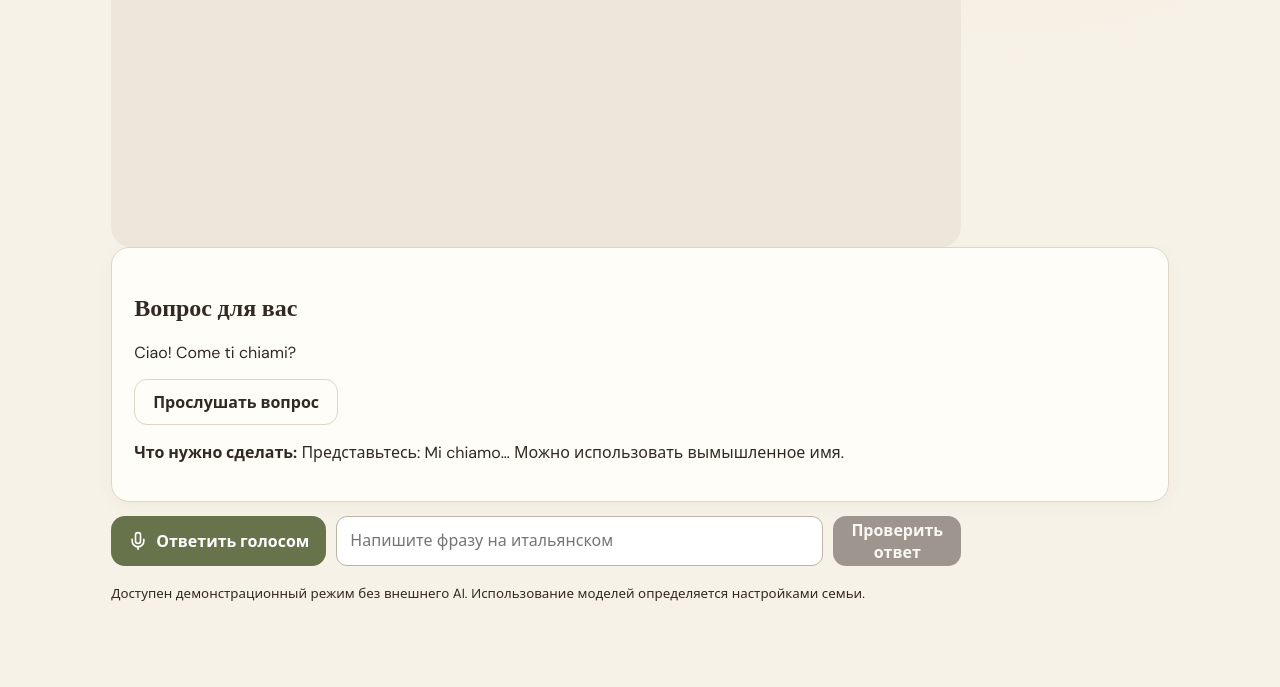
Test case: internet practice routes › opens the Italian tutor composer
The width and height of the screenshot is (1280, 687).
(page scrolled)
Check: the button "Ответить голосом" is enabled, box [111,516,326,566]
Check: the button "Проверить ответ" is disabled, box [833,516,961,566]
In the field named "Ваш ответ": coordinates (580, 541) [336,516,823,566], type "Mi chiamo Luca"
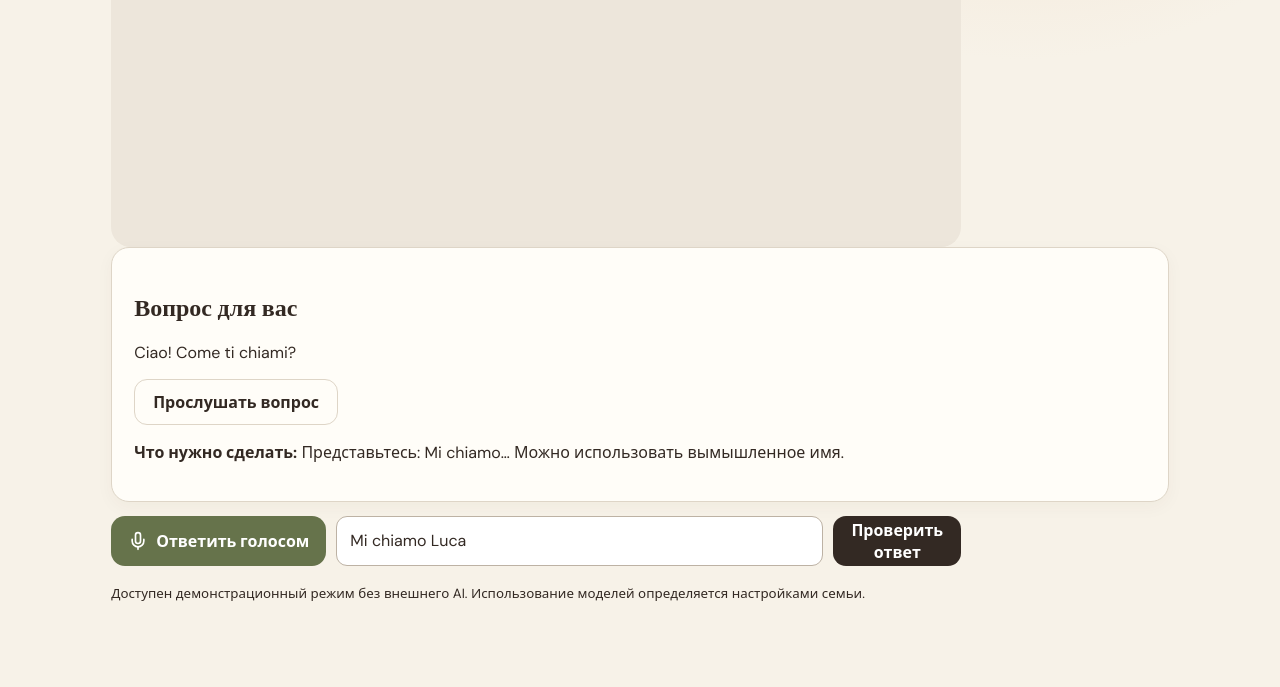
Click the button "Проверить ответ": coordinates (897, 541) [833,516,961,566]
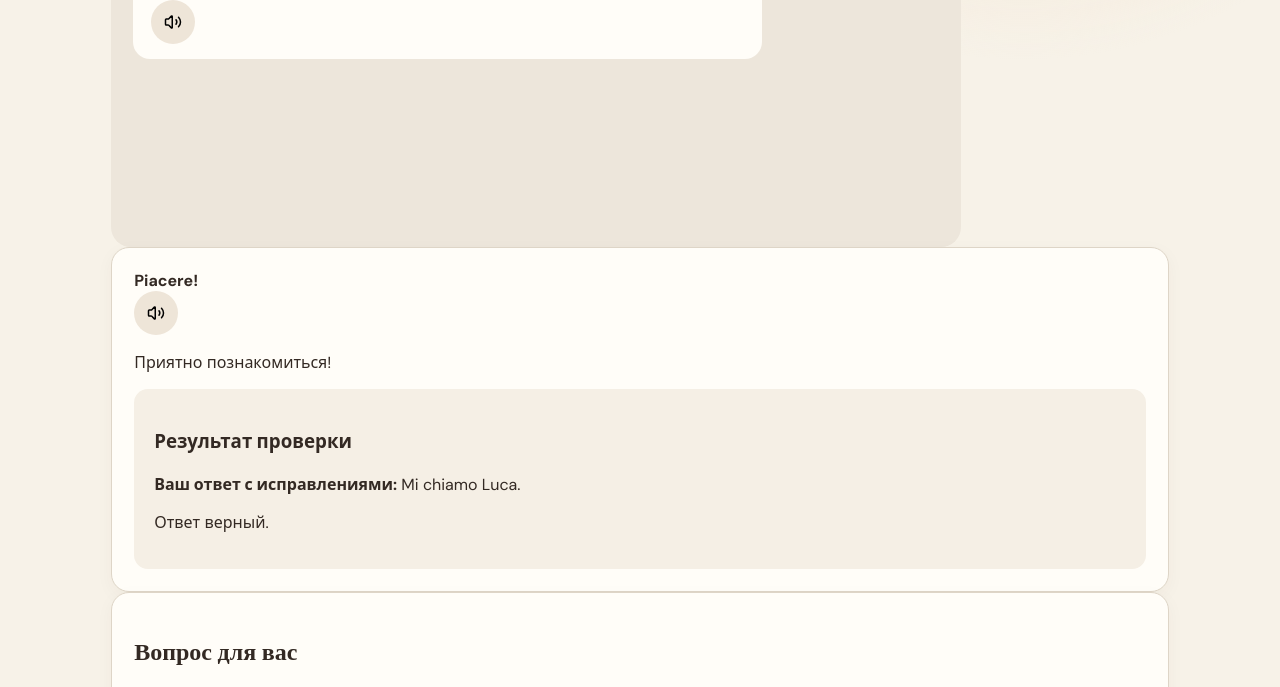
Check: the text "Ответ верный." is shown, box [154,512,269,532]
Check: the text "Mi chiamo Luca." is shown, box [401,474,520,494]
